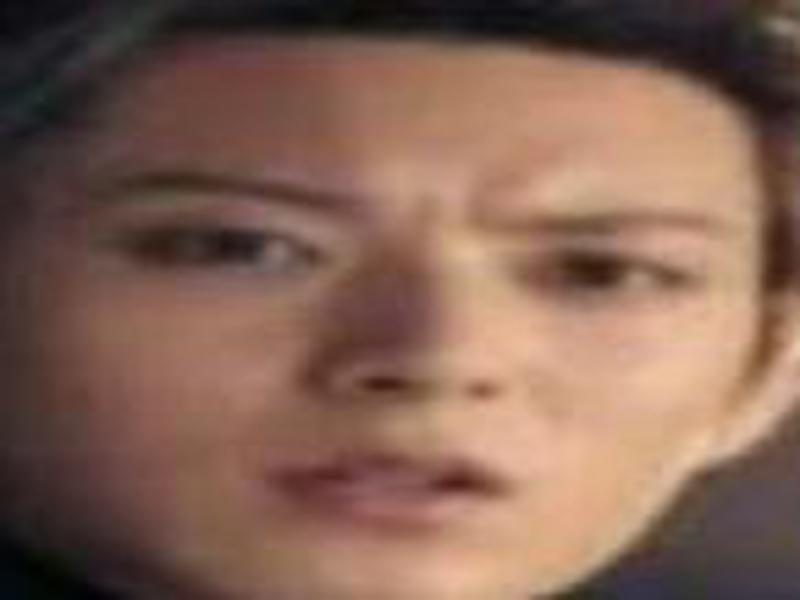without_mask: (19, 40, 749, 585)
